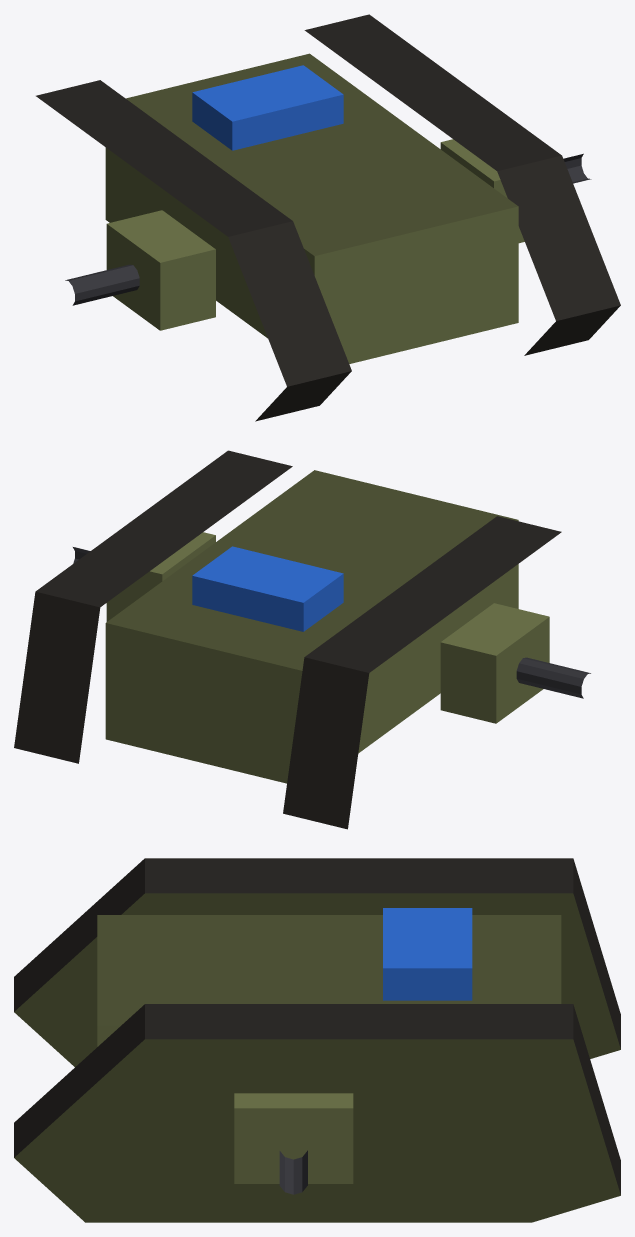
Rendered from tank_ww1.glb.
3 views of the same model, one above another, from view 1: azimuth 30°, elevation 25°; view 2: azimuth 150°, elevation 25°; view 3: azimuth 270°, elevation 25° (orthographic). The views are drawn at different scales.
Parts seen in each view (by area): view 1: tank_ww1; view 2: tank_ww1; view 3: tank_ww1.
Boxes of the visible parts, x1,y1,x2,y2 form: tank_ww1: (36,14,620,421); tank_ww1: (14,450,590,829); tank_ww1: (14,858,620,1222).
Bounding box in the file's own units: 1.12 × 0.36 × 1.02.
